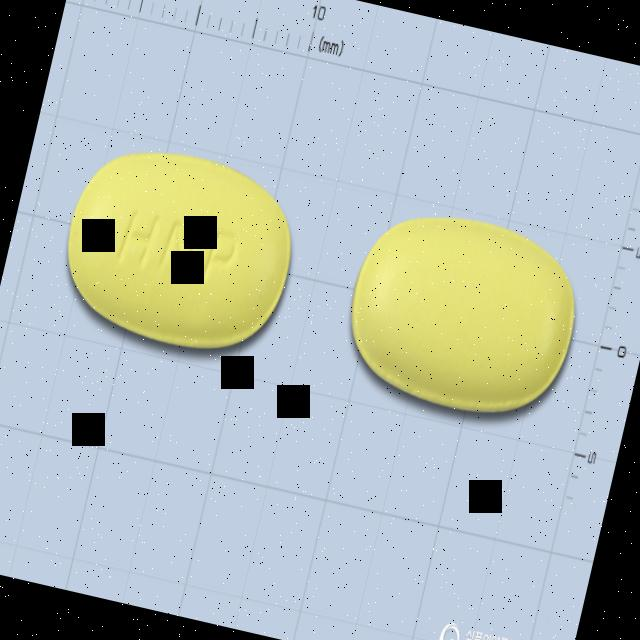Clari: (45, 126, 316, 375)
